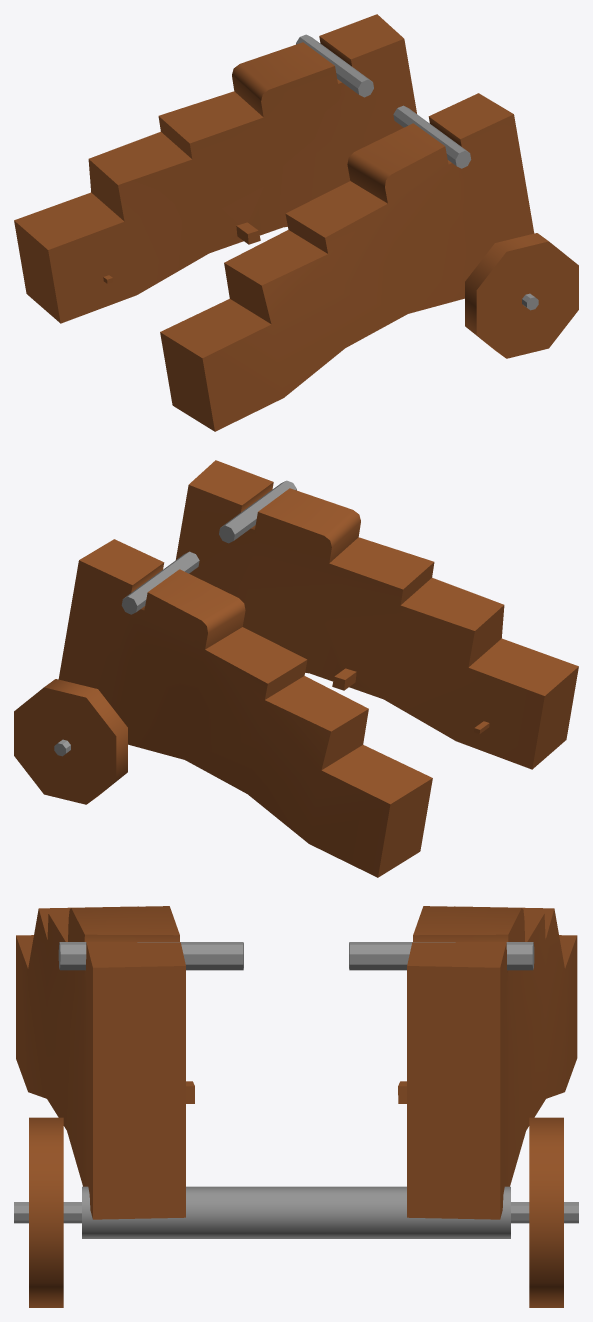
The model's file is Base_Tiltable_Bigger.fbx.
3 views of the same model, one above another, from view 1: azimuth 30°, elevation 25°; view 2: azimuth 150°, elevation 25°; view 3: azimuth 270°, elevation 25° (orthographic). The views are drawn at different scales.
Parts seen in each view (by area): view 1: Cylinder.016; view 2: Cylinder.016; view 3: Cylinder.016.
Part boxes in pixels (x1=…): Cylinder.016: x1=14, y1=14, x2=578, y2=431; Cylinder.016: x1=14, y1=460, x2=578, y2=877; Cylinder.016: x1=14, y1=906, x2=578, y2=1307.
Size of the model in its own units: 1147 by 979 by 631.
